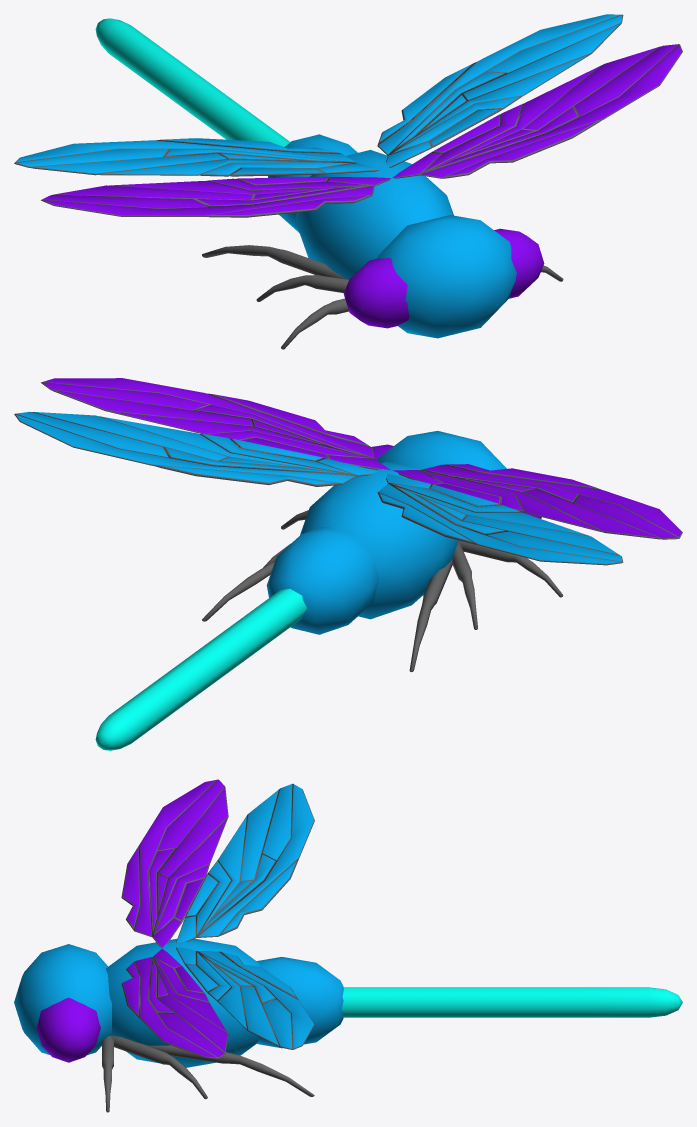
3 views of the same model, one above another, from view 1: azimuth 30°, elevation 25°; view 2: azimuth 150°, elevation 25°; view 3: azimuth 270°, elevation 25° (orthographic). The views are drawn at different scales.
Parts seen in each view (by area): view 1: Symmetry.1; view 2: Symmetry.1; view 3: Symmetry.1.
Part boxes in pixels (bbox=[...]): Symmetry.1: bbox=[14, 14, 682, 349]; Symmetry.1: bbox=[14, 378, 682, 750]; Symmetry.1: bbox=[14, 779, 682, 1112].
Bounding box in the file's own units: 281 × 68.47 × 285.
